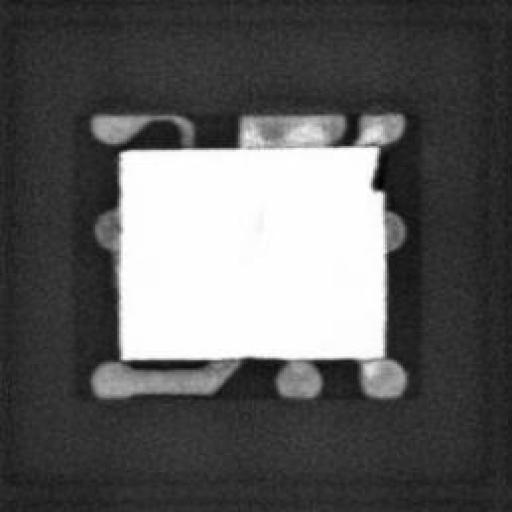DIE_BROKEN: (365, 144, 385, 194)
